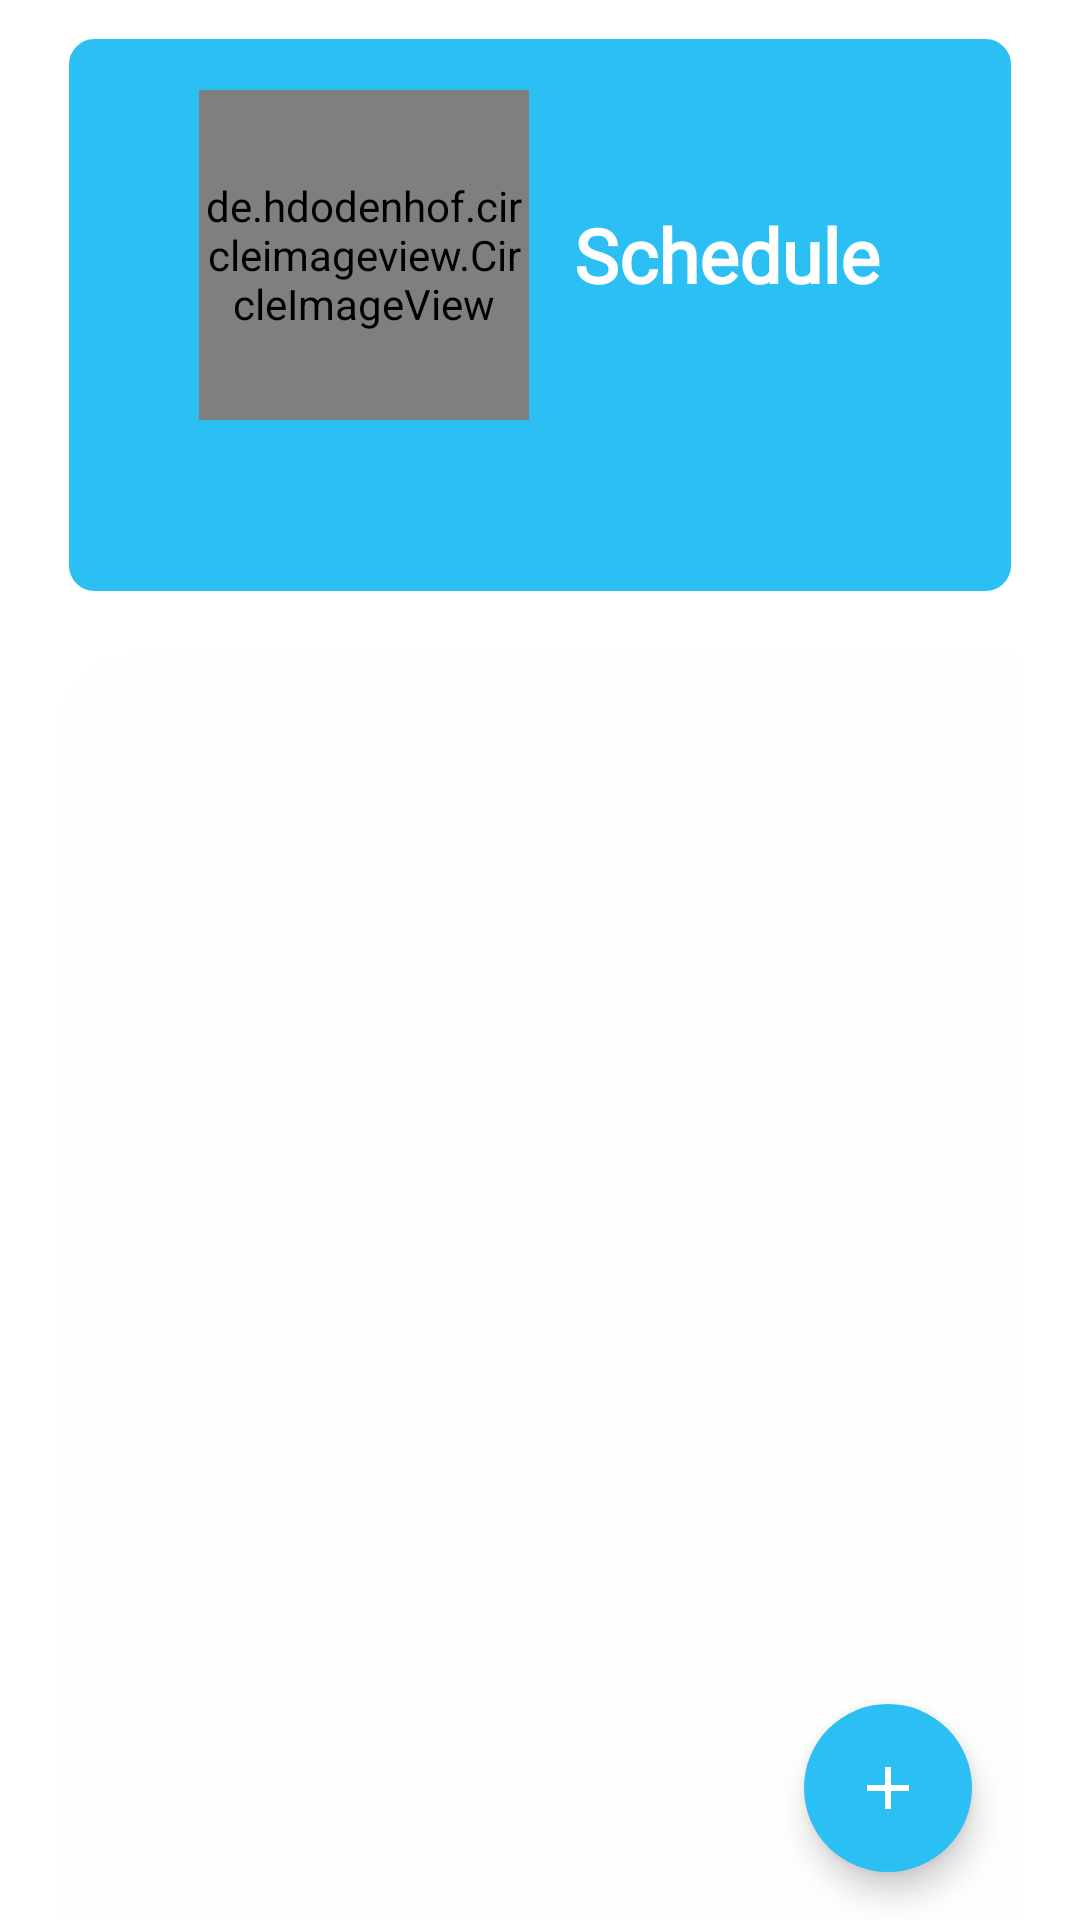

Where to tap for icons on this 1080px×1920px app screen, as (x,y):
add: (888,1788)
